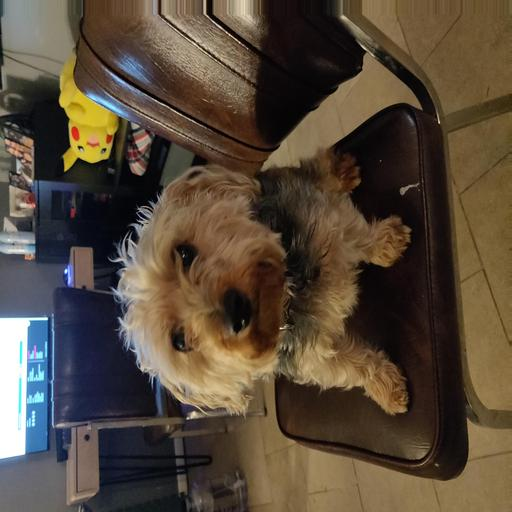dog: (134, 141, 411, 418)
